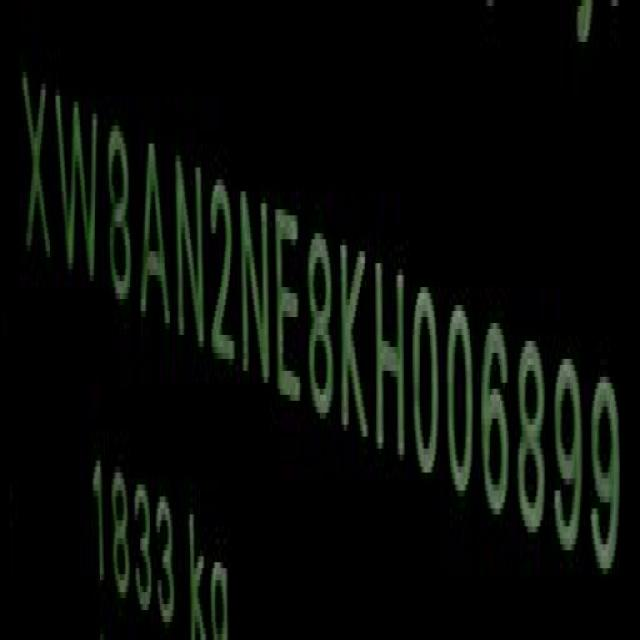0: (447, 290, 476, 500), (413, 274, 441, 488)
2: (210, 171, 236, 378)
6: (481, 312, 512, 522)
8: (518, 336, 548, 542), (308, 223, 334, 426), (108, 118, 135, 311)
9: (591, 365, 622, 578), (552, 349, 582, 560)
A: (140, 132, 172, 341)
E: (276, 201, 303, 413)
H: (377, 250, 409, 471)
K: (342, 242, 371, 452)
N: (237, 178, 273, 394), (176, 144, 207, 365)
W: (54, 76, 103, 298)
X: (18, 62, 54, 279)
